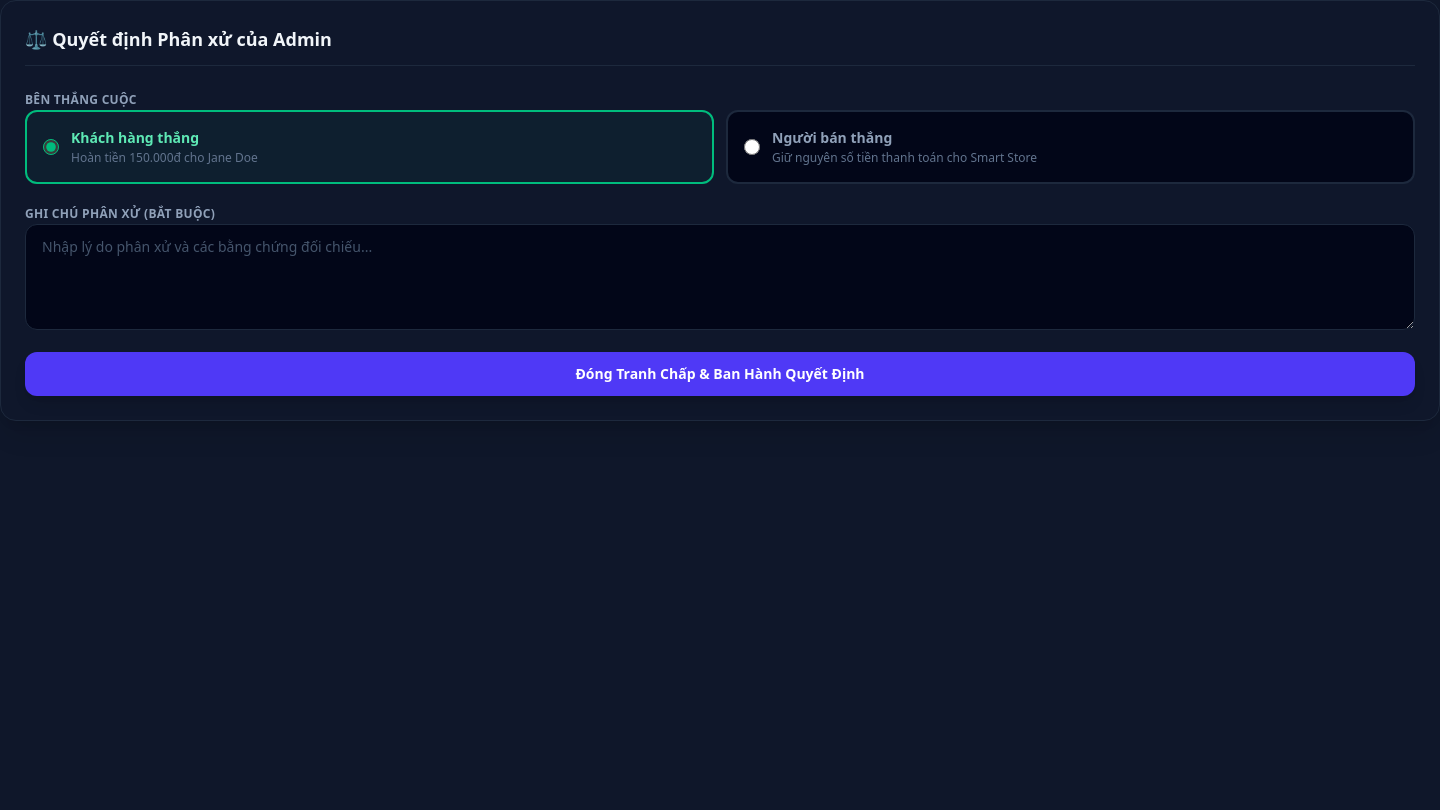
ResolutionForm React Component › should show double confirmation dialog when form is valid
Type "Evidence matches customer claim." into the text box with placeholder "Nhập lý do phân xử và các bằng chứng đối chiếu...".
click(720, 277); type("Evidence matches customer claim.")  # box x1=25 y1=224 x2=1415 y2=330
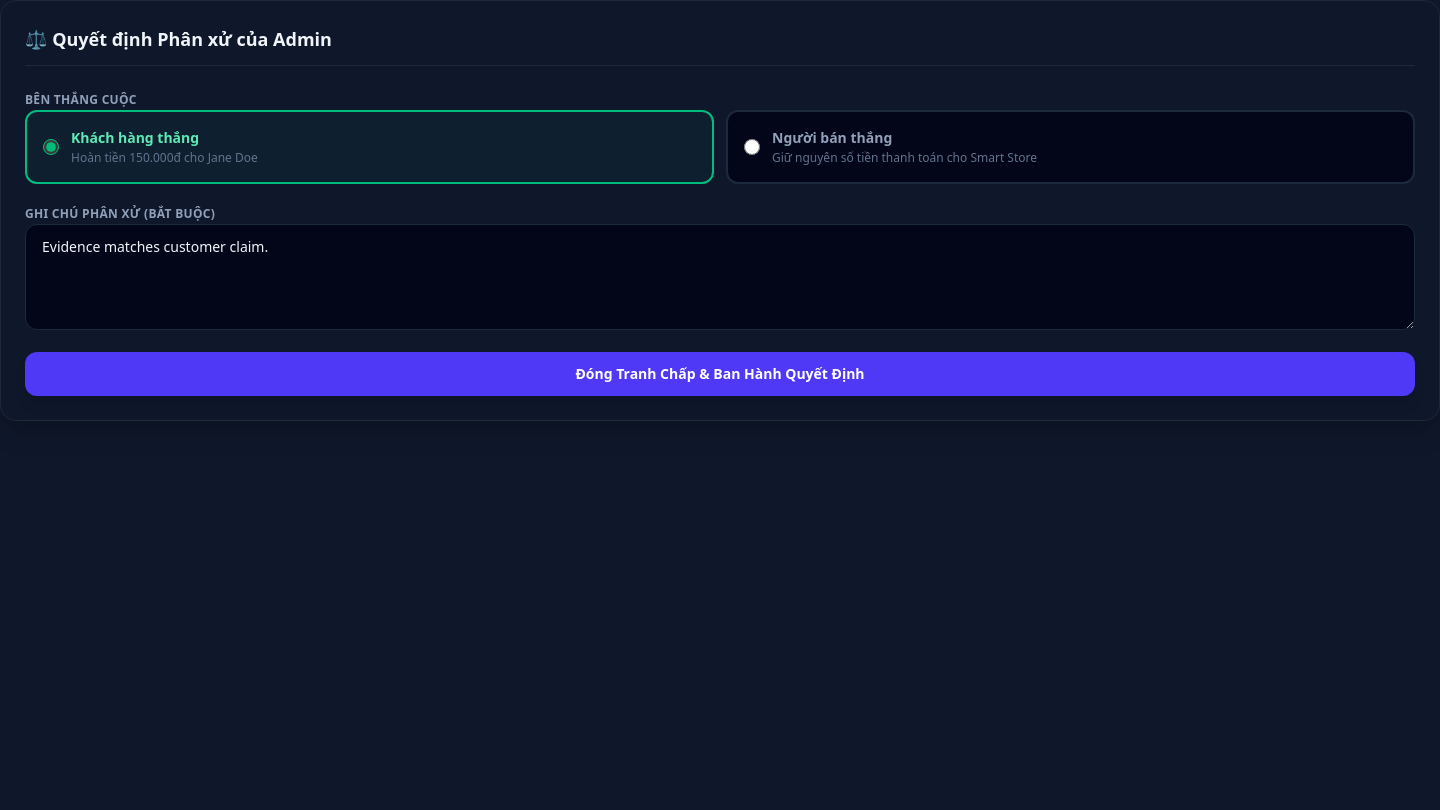
Click the button "Đóng Tranh Chấp & Ban Hành Quyết Định".
click(720, 374)  # box x1=25 y1=352 x2=1415 y2=396
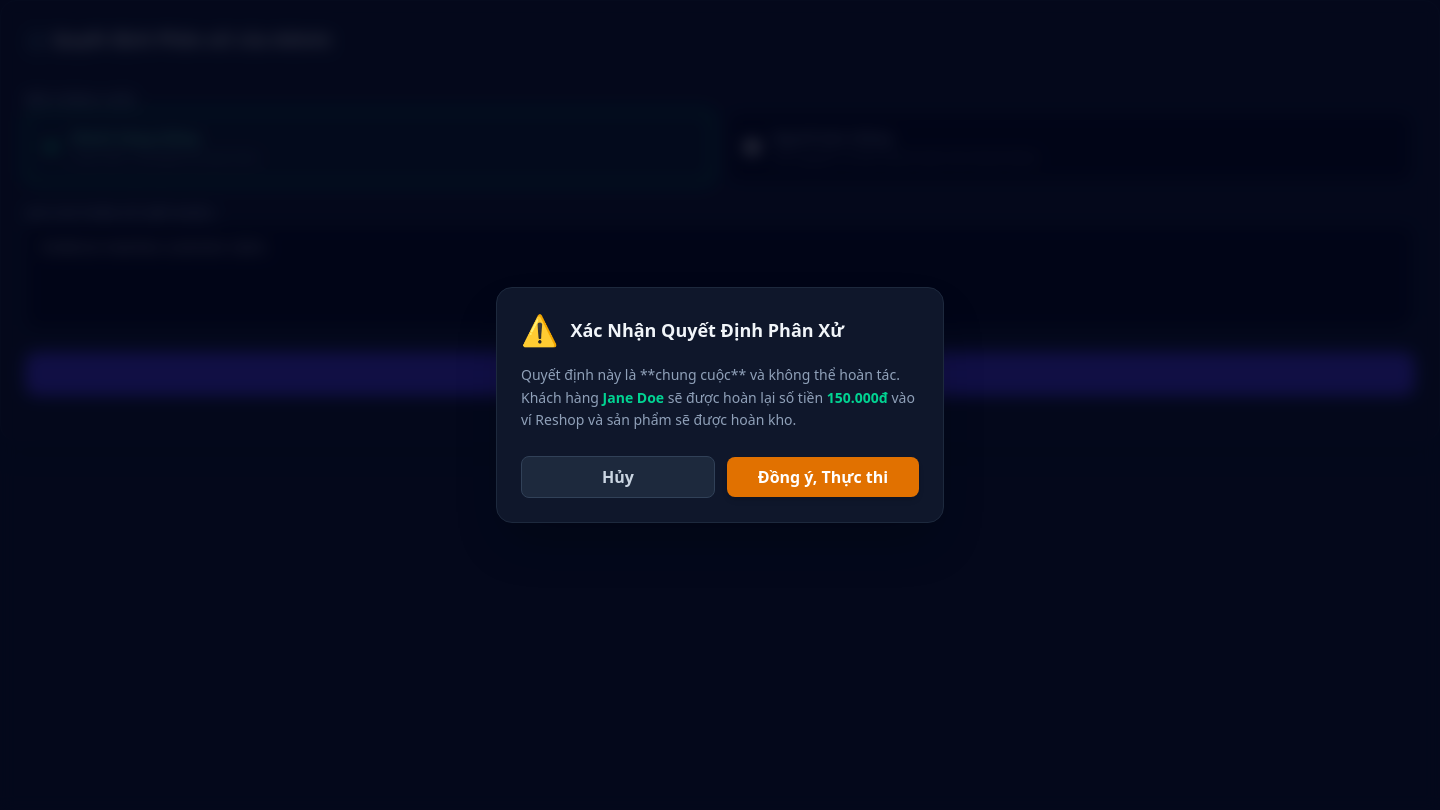
Expected: the heading "Xác Nhận Quyết Định Phân Xử" is shown, x1=570 y1=316 x2=844 y2=344
Expected: the text "sẽ được hoàn lại số tiền" is shown, x1=664 y1=388 x2=823 y2=407
Expected: the button "Đồng ý, Thực thi" is shown, x1=727 y1=457 x2=919 y2=497
